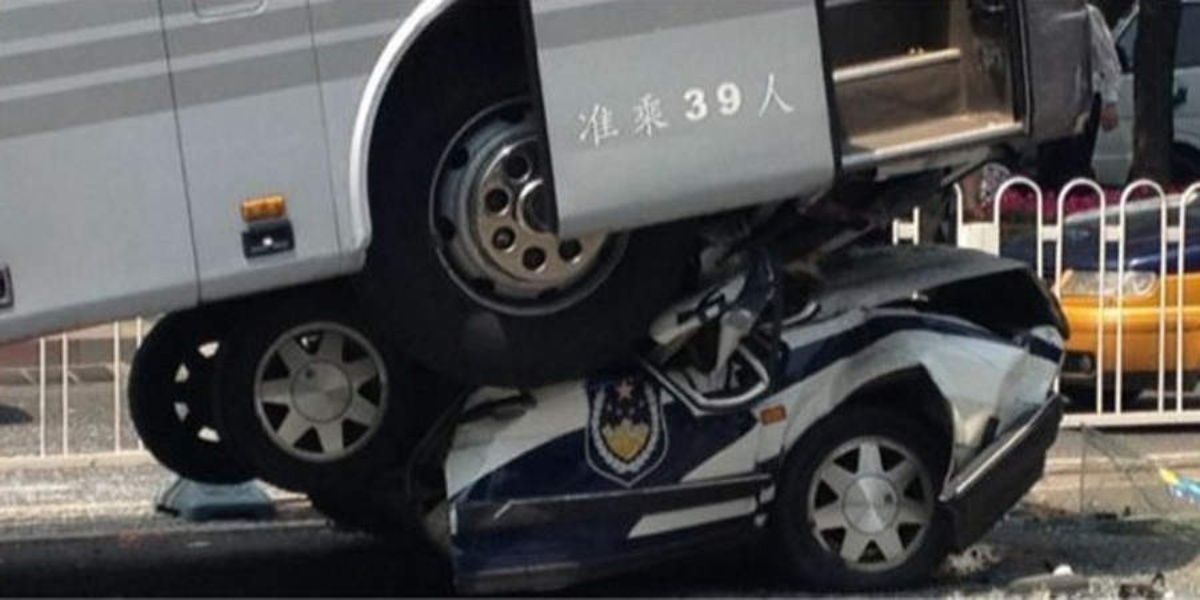text: (785, 70, 801, 153), (577, 70, 592, 153), (593, 70, 608, 153), (609, 70, 624, 153), (625, 70, 640, 153), (641, 70, 656, 153), (657, 70, 672, 153), (673, 70, 688, 153), (689, 70, 704, 153), (705, 70, 720, 153), (721, 70, 736, 153), (737, 70, 752, 153), (753, 70, 768, 153), (769, 70, 784, 153), (571, 70, 576, 153)
